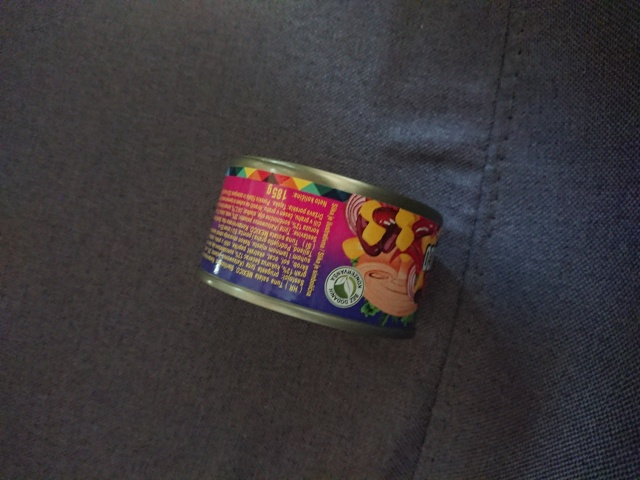Giana Tuna Salad Mexico 185g: (193, 150, 447, 344)
